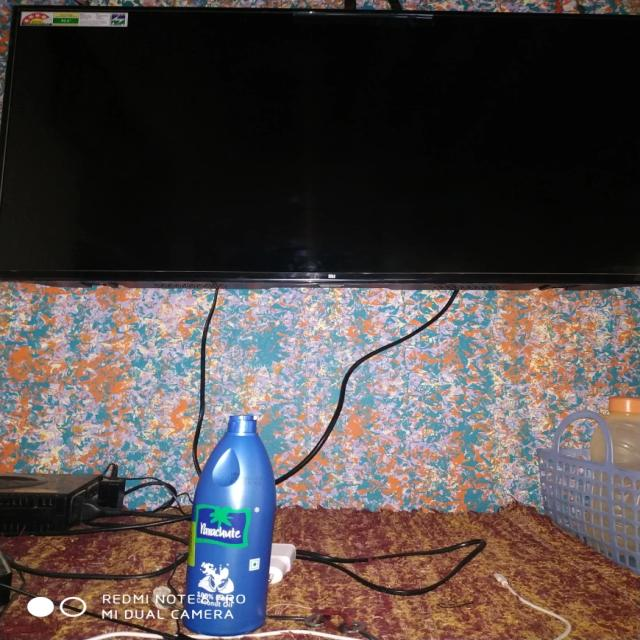parachute_oil: (177, 404, 277, 640)
